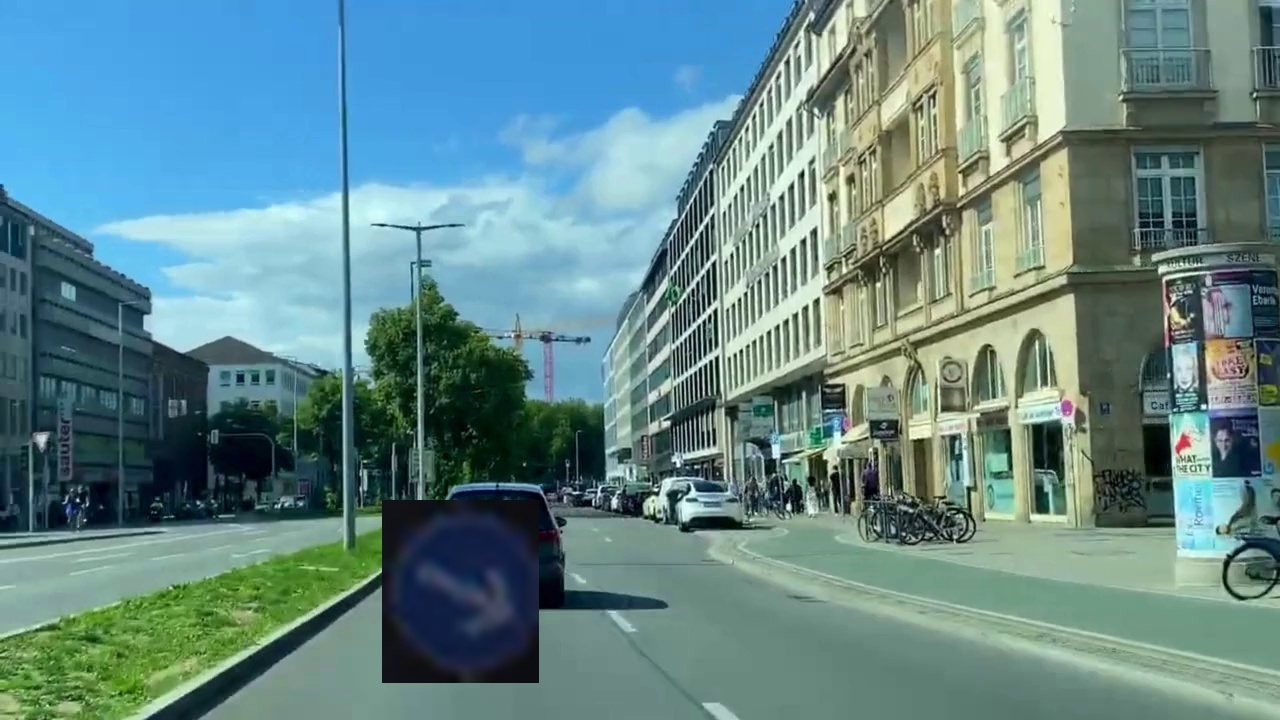Keep right: (382, 500, 539, 683)
